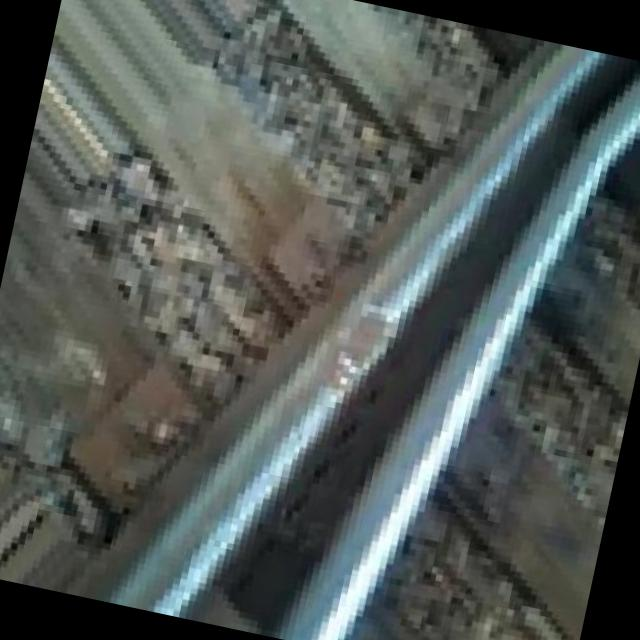defective: (270, 212, 442, 463)
